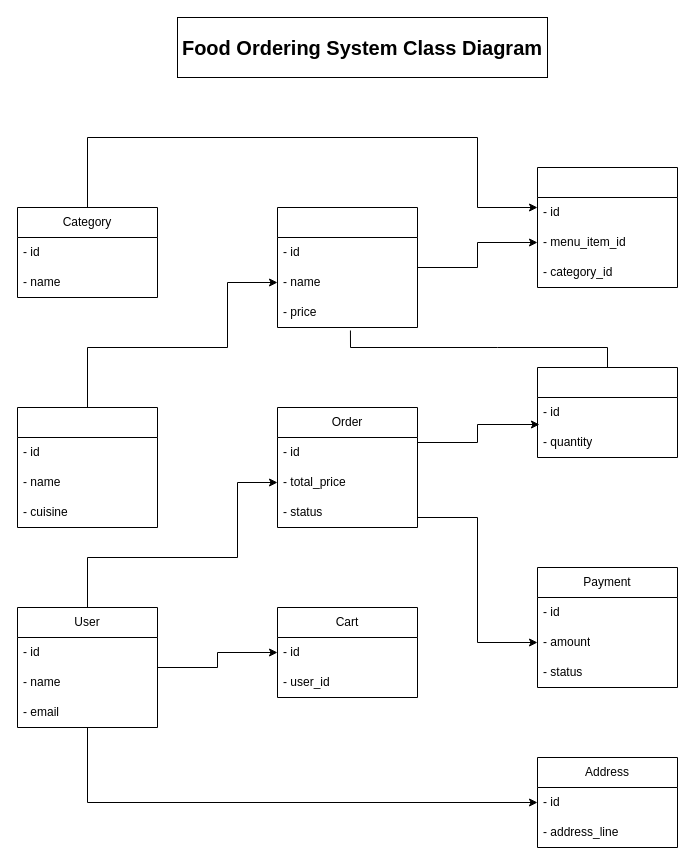
This 695x865 diagram has some shape labels left out. The box of each missing label's shape, as (x1, y1, x2, y2) in pixels:
MenuItem: (276, 206, 418, 328)
MenuItemCategory: (536, 166, 678, 288)
OrderItem: (536, 366, 678, 458)
Restaurant: (16, 406, 158, 528)
